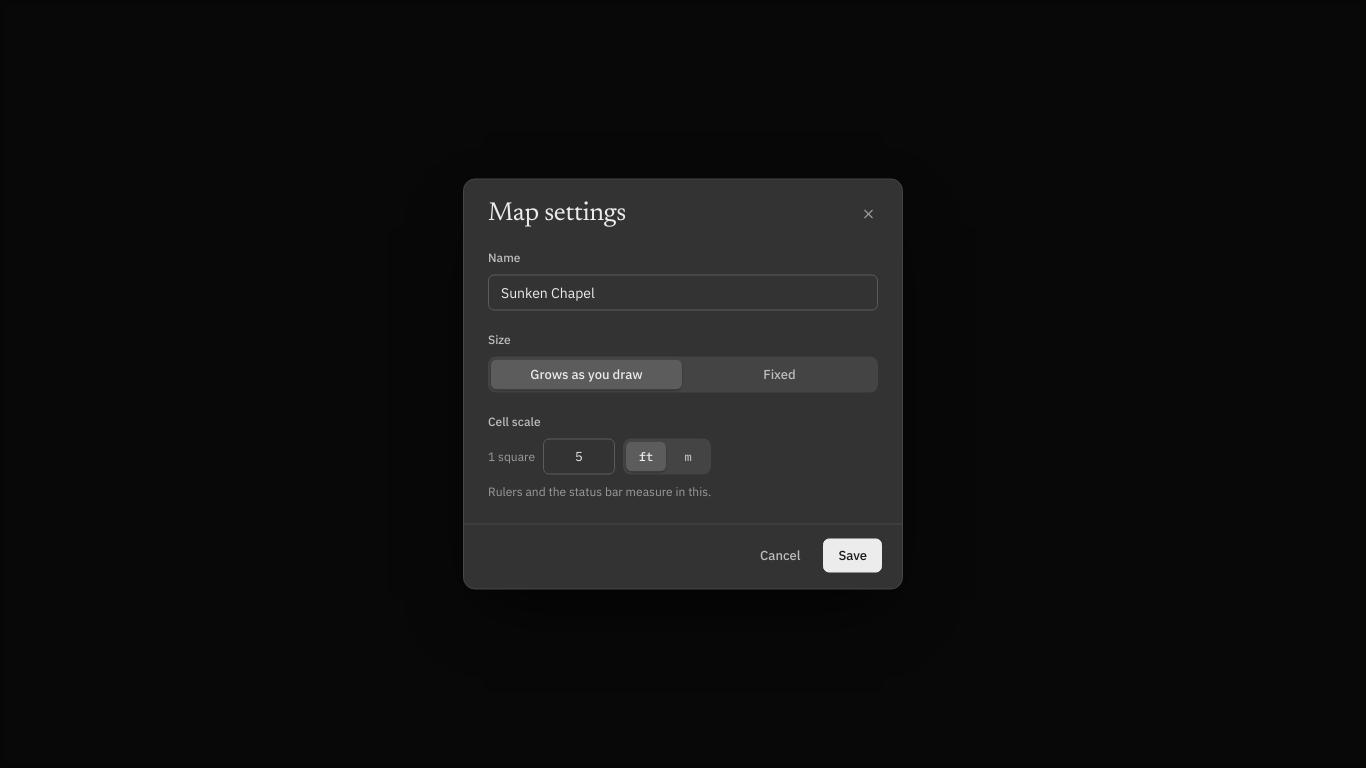
Scenario: MapSettingsModal › refuses a negative as a cell scale
The width and height of the screenshot is (1366, 768).
Replace the text in the field named "Distance per square" with "-5" at (579, 456), box x1=543 y1=438 x2=615 y2=474
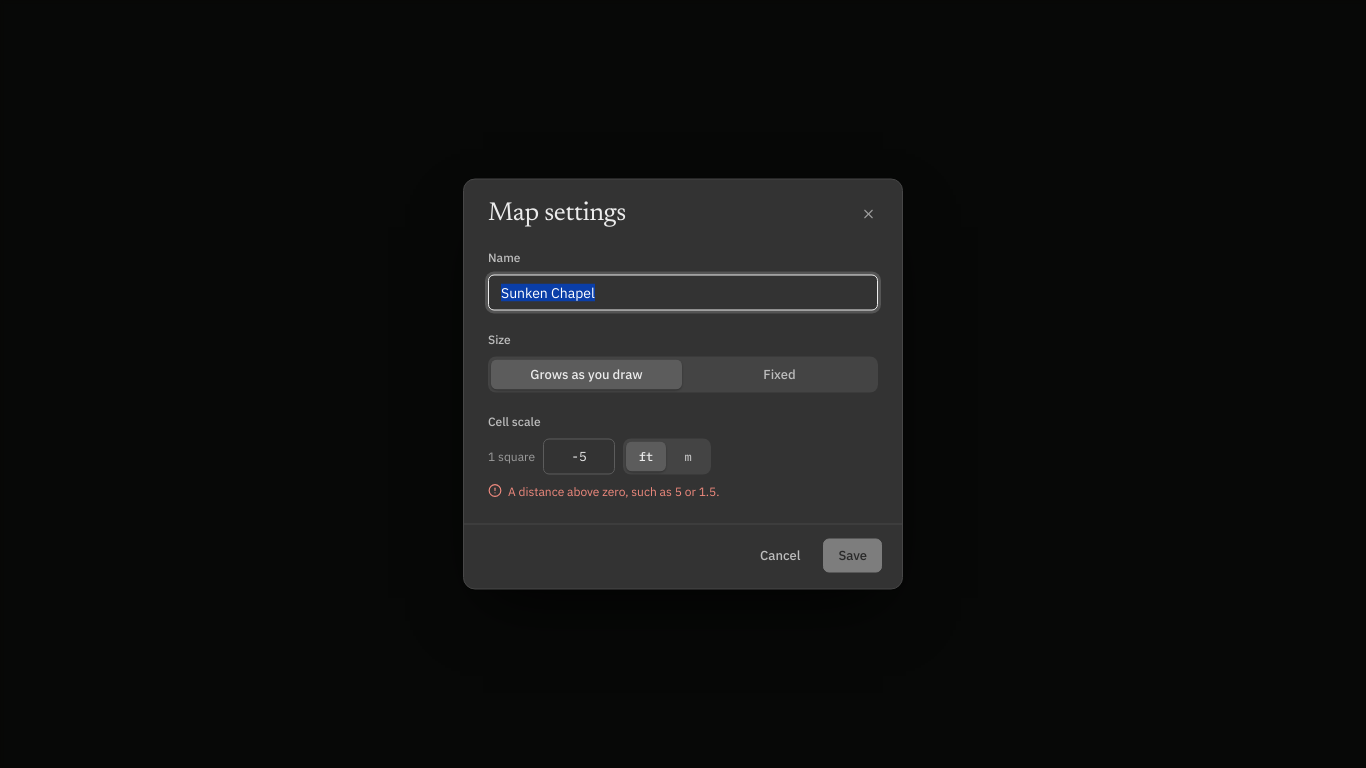
Check: the message shows "above zero", box x1=508 y1=483 x2=720 y2=498
Check: the button with test id "v2-map-settings-save" is disabled, box x1=823 y1=538 x2=882 y2=572
